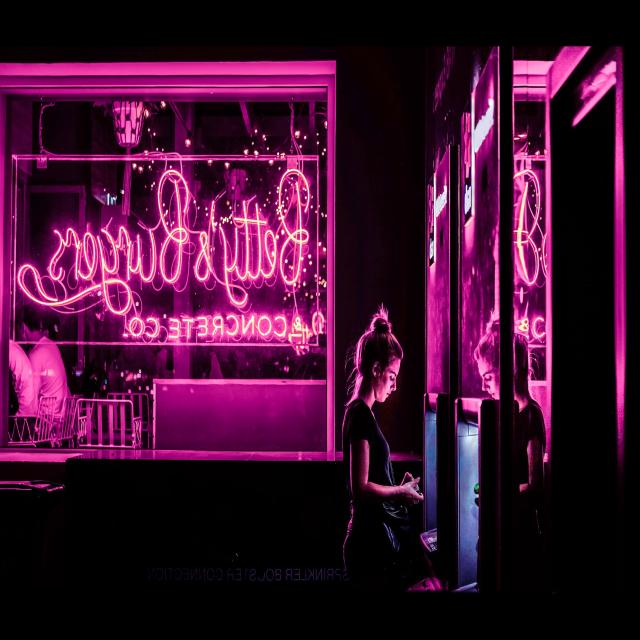adult: (340, 314, 421, 640)
